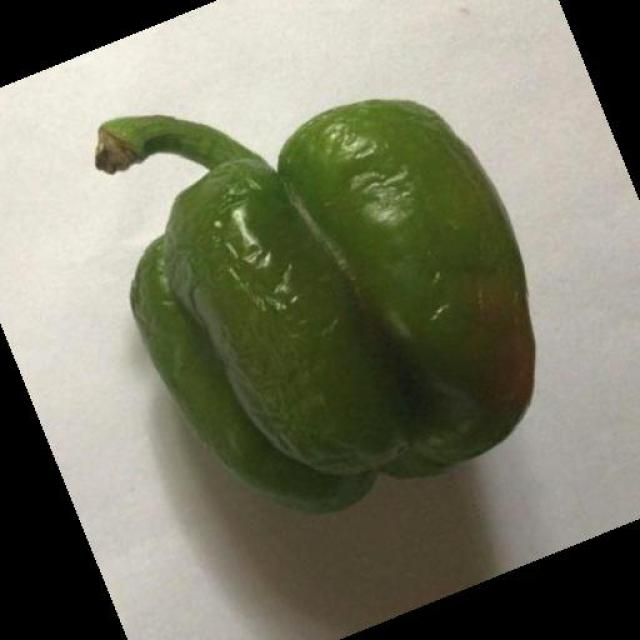Stale_Capsicum: (110, 103, 527, 506)
